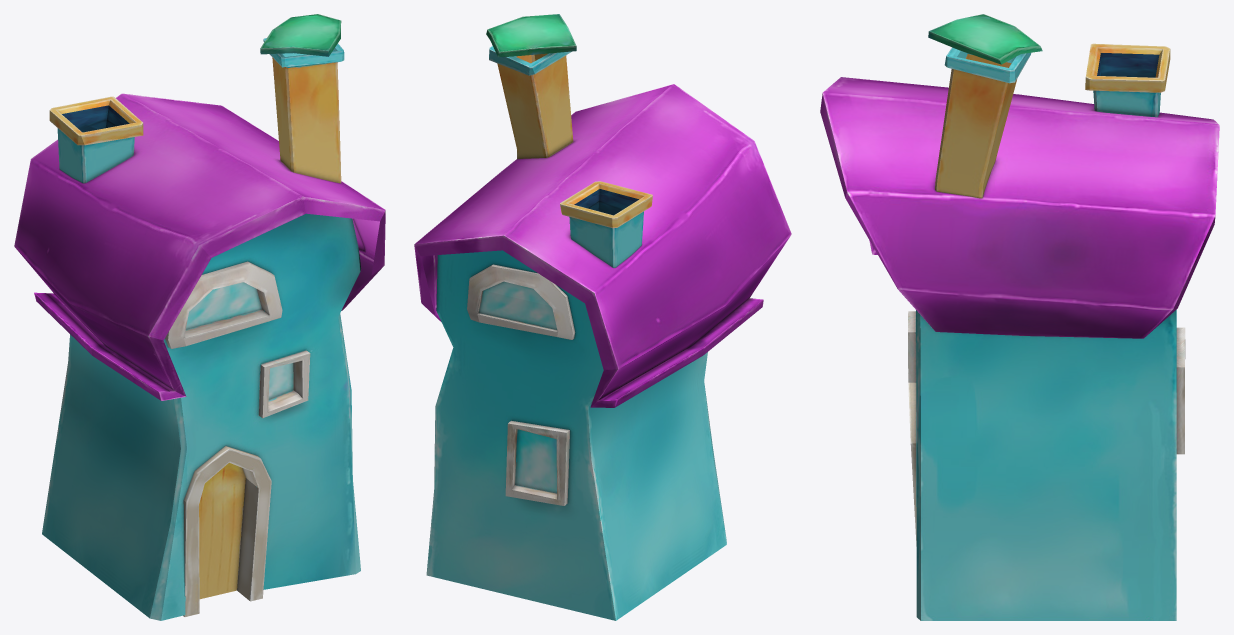
Rendered from haus01b.fbx.
The picture shows the model from 3 angles, left to right: view 1: azimuth 30°, elevation 25°; view 2: azimuth 150°, elevation 25°; view 3: azimuth 270°, elevation 25°; orthographic projection. The views are drawn at different scales.
Parts seen in each view (by area): view 1: haus01; view 2: haus01; view 3: haus01.
Part boxes in pixels (<box>): haus01: <box>14,14,385,620</box>; haus01: <box>414,14,791,620</box>; haus01: <box>820,14,1219,620</box>.
Size of the model in its own units: 2.4 by 4.59 by 2.87.
